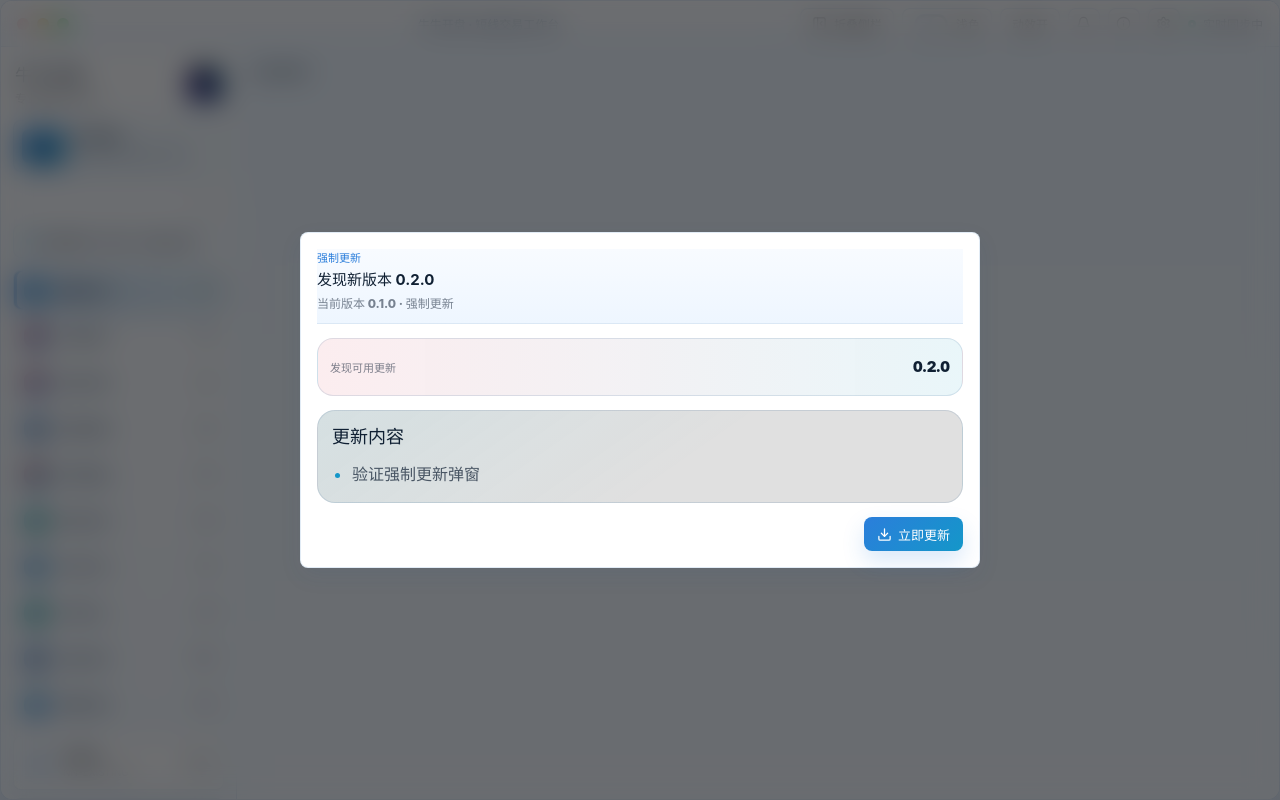
Test: AppShell › locks a forced update modal and renders installer download progress
Expected: the dialog named "版本更新" is shown, x1=300 y1=232 x2=980 y2=568
Click the button "立即更新" at [914, 534], box x1=864 y1=517 x2=963 y2=551
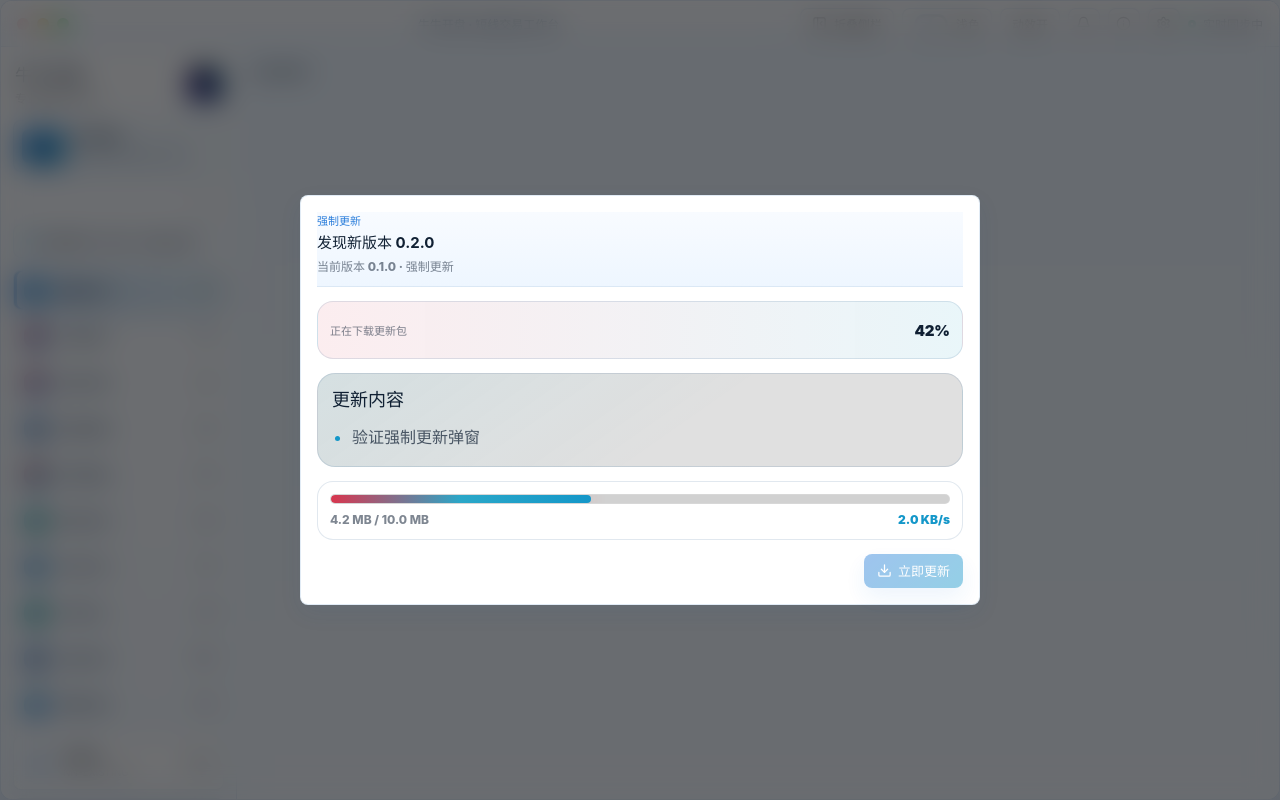
Now the text "42%" is shown, box x1=915 y1=321 x2=950 y2=340
Now the text "2.0 KB/s" is shown, box x1=898 y1=512 x2=950 y2=527
